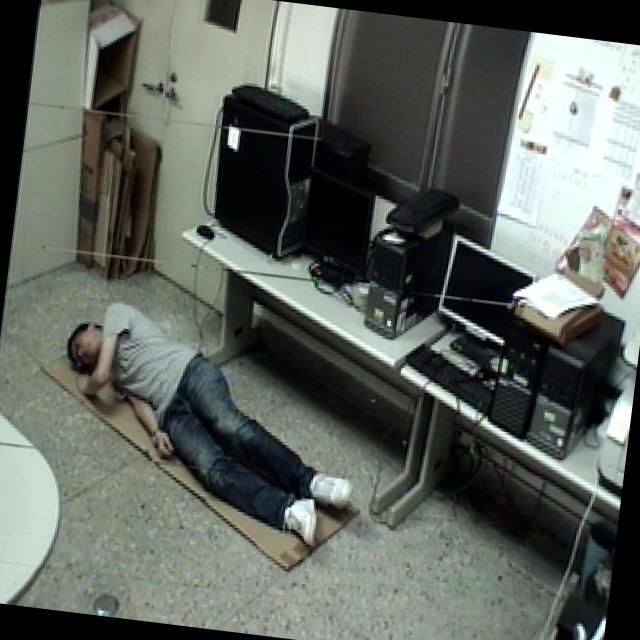lie: (37, 292, 374, 550)
